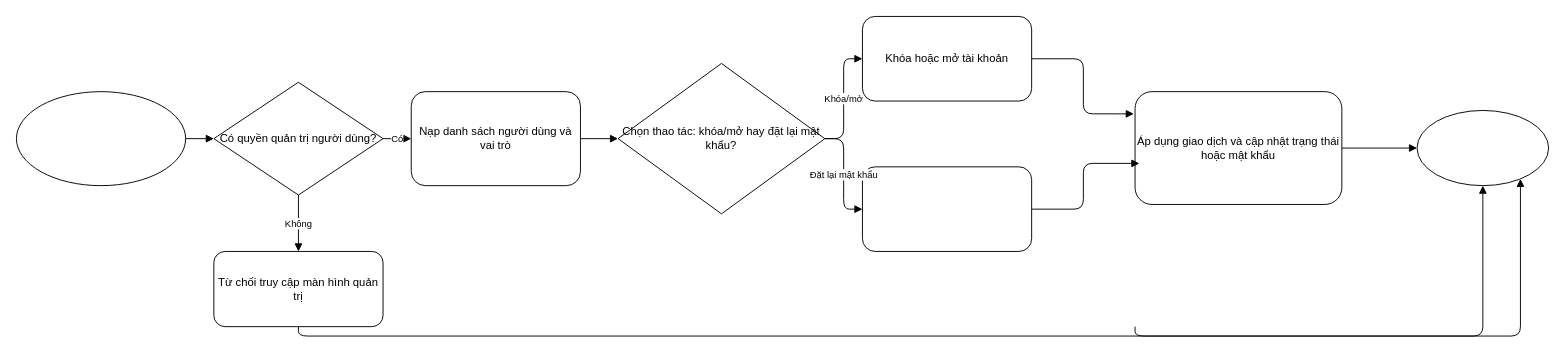
This 1565x360 diagram has some shape labels left out. Here are the shapes that lost their labels. From the top down, the box of each, then its label:
(16, 91, 186, 186): Mở màn hình quản lý người dùng
(1416, 110, 1549, 186): Kết thúc
(862, 166, 1032, 251): Đặt lại mật khẩu cho tài khoản
